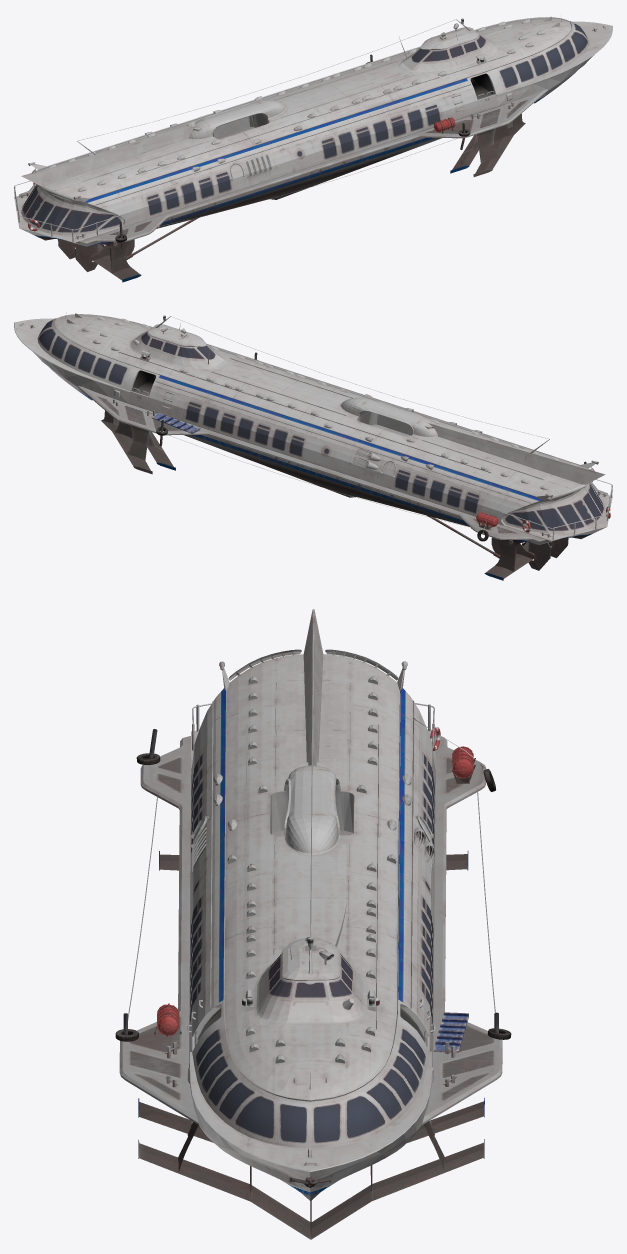
File: Meteor.fbx
3 renders of one model, top to bottom at view 1: azimuth 30°, elevation 25°; view 2: azimuth 150°, elevation 25°; view 3: azimuth 270°, elevation 25°, orthographic. The views are drawn at different scales.
Parts seen in each view (by area): view 1: type_342_meteor_type_342_meteor_0; view 2: type_342_meteor_type_342_meteor_0; view 3: type_342_meteor_type_342_meteor_0.
Part boxes in pixels (x1=…): type_342_meteor_type_342_meteor_0: x1=14, y1=16, x2=612, y2=282; type_342_meteor_type_342_meteor_0: x1=14, y1=313, x2=612, y2=580; type_342_meteor_type_342_meteor_0: x1=115, y1=609, x2=511, y2=1239.
Bounding box in the file's own units: 34.39 × 8.83 × 9.94.
